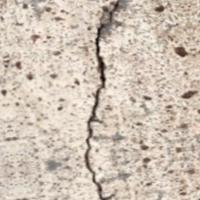crack: (70, 0, 140, 199)
